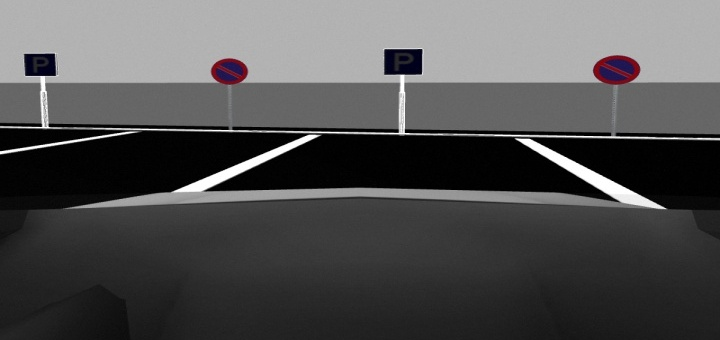park: (378, 46, 428, 78), (22, 52, 61, 80)
park_yapilmaz: (587, 50, 643, 86), (209, 56, 251, 88)
